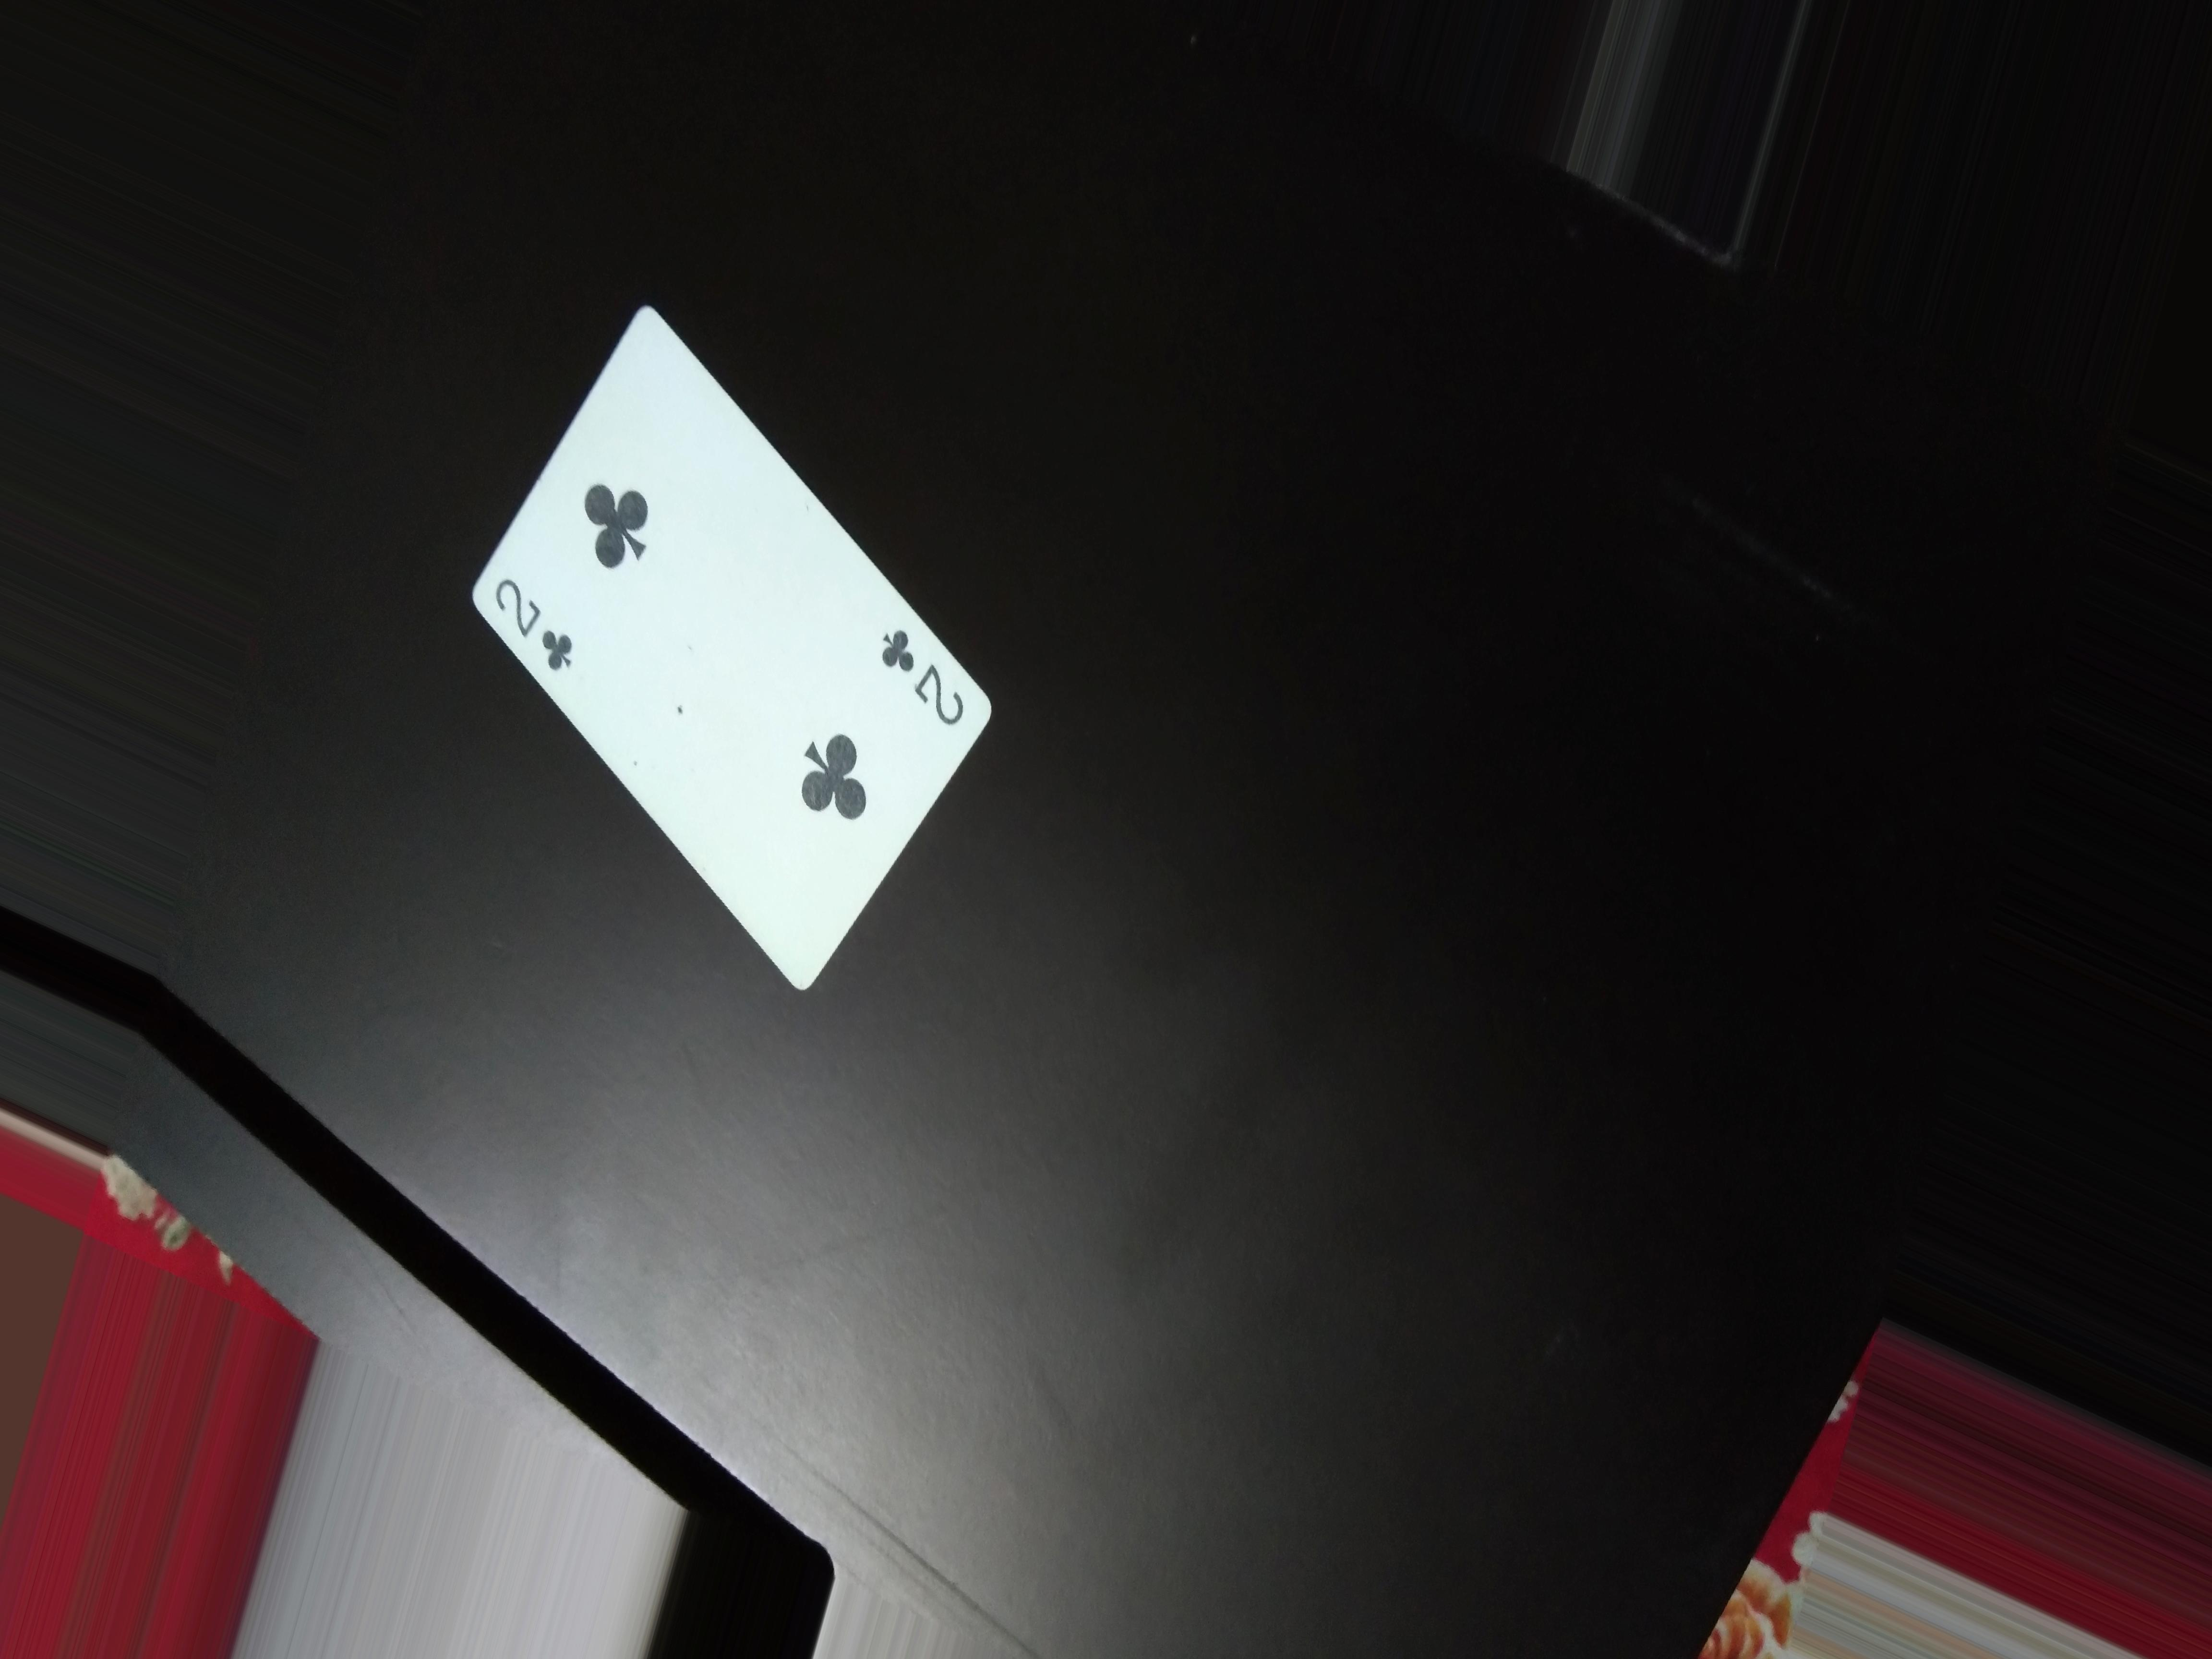2C: (489, 570, 583, 699)
